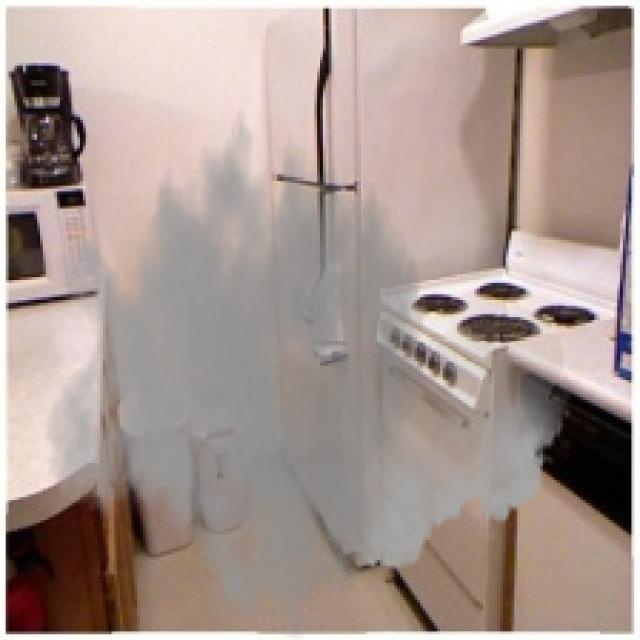Smoke: (42, 82, 574, 638)
